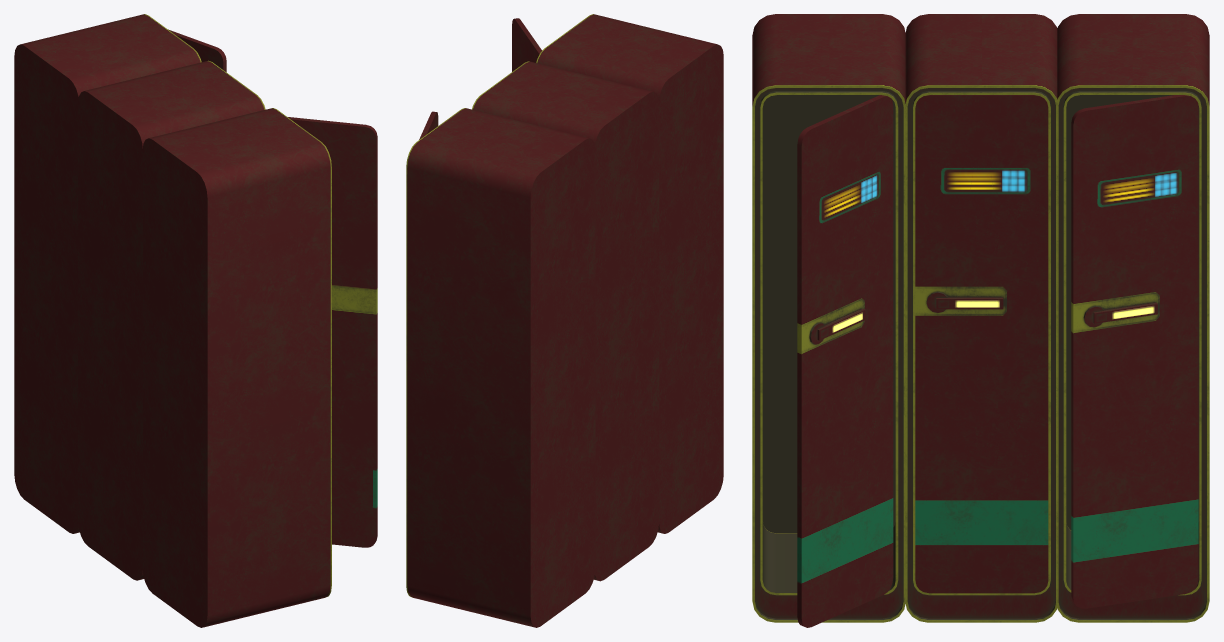
The picture shows the model from 3 angles, left to right: view 1: azimuth 30°, elevation 25°; view 2: azimuth 150°, elevation 25°; view 3: azimuth 270°, elevation 25°; orthographic projection. The views are drawn at different scales.
Parts seen in each view (by area): view 1: locker_low.002, locker_low, locker_low.001, door_low.002, door_low.001; view 2: locker_low.001, locker_low.002, locker_low, door_low.002; view 3: door_low, door_low.001, door_low.002, locker_low.002, locker_low.001, locker_low.
Boxes of the visible parts, x1,y1,x2,y2 form: locker_low.002: [142, 108, 331, 627]; locker_low: [78, 60, 265, 580]; locker_low.001: [14, 14, 201, 533]; door_low.002: [288, 117, 377, 547]; door_low.001: [168, 29, 226, 72]; locker_low.001: [406, 108, 595, 627]; locker_low.002: [536, 14, 723, 533]; locker_low: [472, 61, 659, 581]; door_low.002: [512, 18, 542, 71]; door_low: [915, 95, 1048, 593]; door_low.001: [1071, 95, 1198, 608]; door_low.002: [797, 95, 893, 627]; locker_low.002: [752, 14, 905, 622]; locker_low.001: [1056, 14, 1209, 622]; locker_low: [905, 14, 1058, 622].
Size of the model in its own units: 76.08 by 173 by 133.
Materials: 1 (1 with a texture image).
